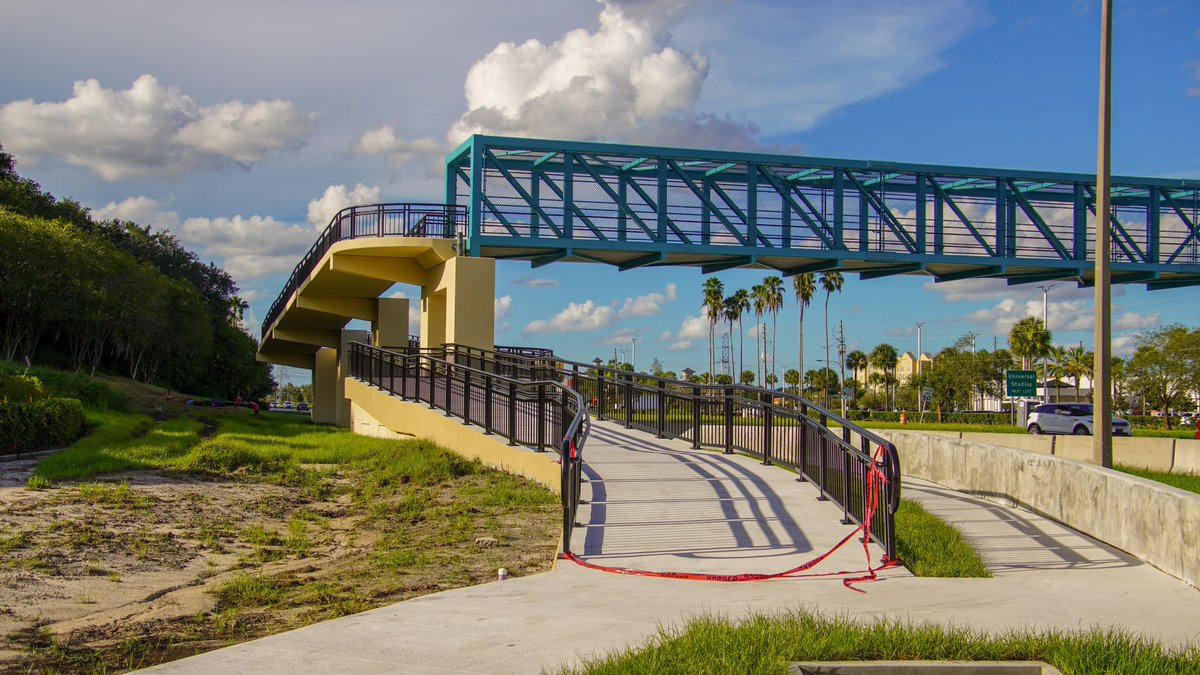bridge: (440, 132, 1195, 295)
